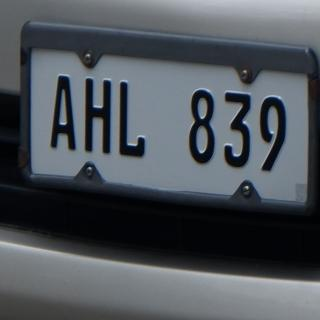license: (20, 23, 320, 215)
